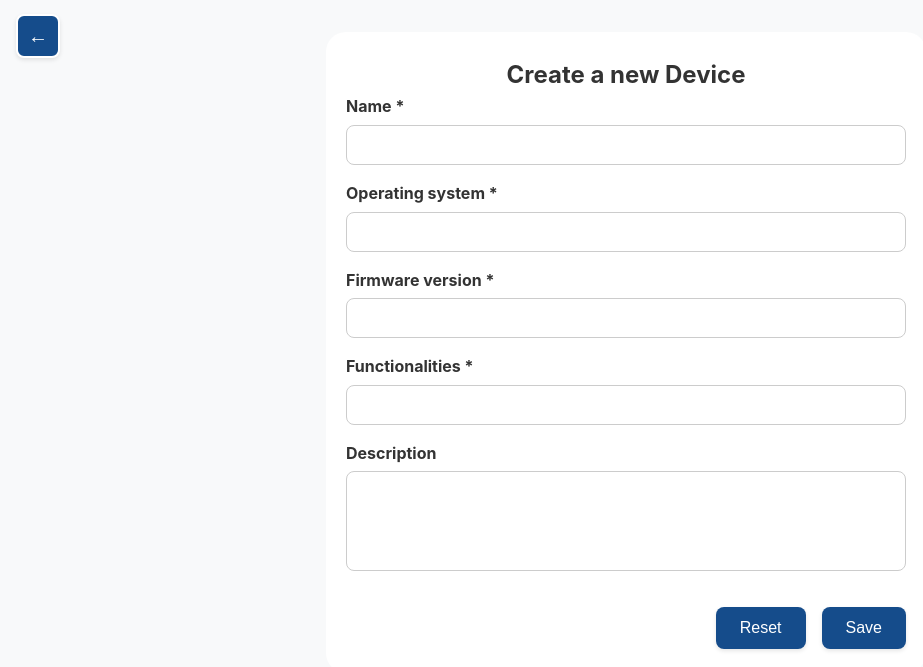
Test case: DeviceFormView — actions › resets the fields when clicking Reset
The image size is (923, 667).
Type "Router" into the field labelled "Name *" at [626, 145], box [346,125,906,165]
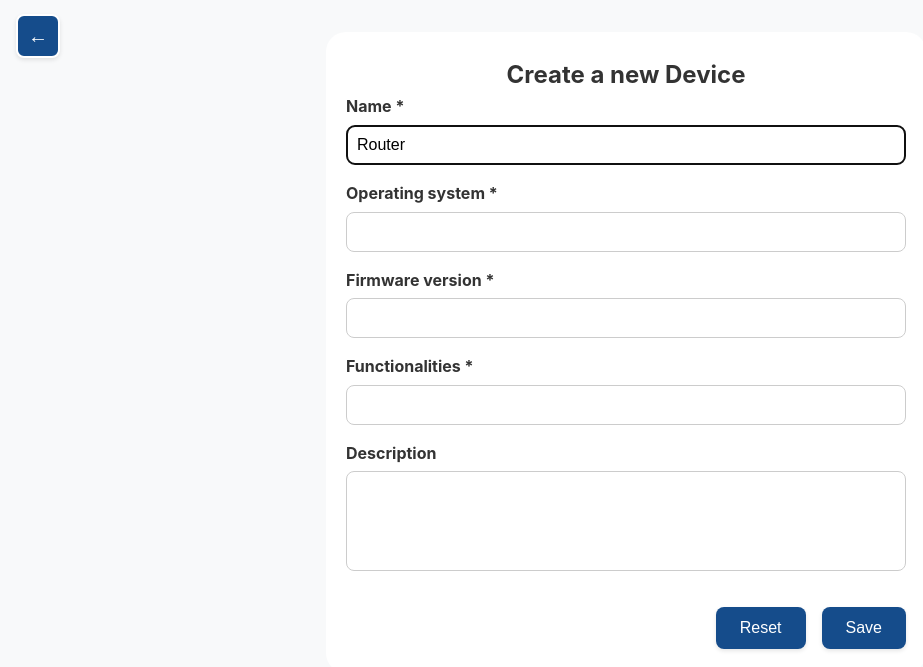
Click the button "Reset" at [761, 628], box [716,607,806,649]
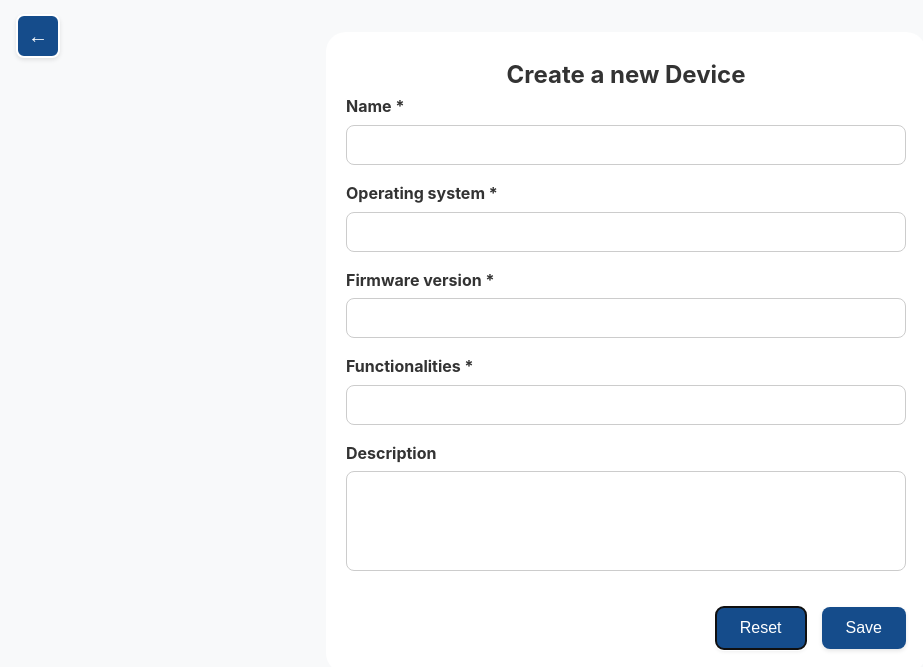
Check: the field labelled "Name *" is empty, box [346,125,906,165]
